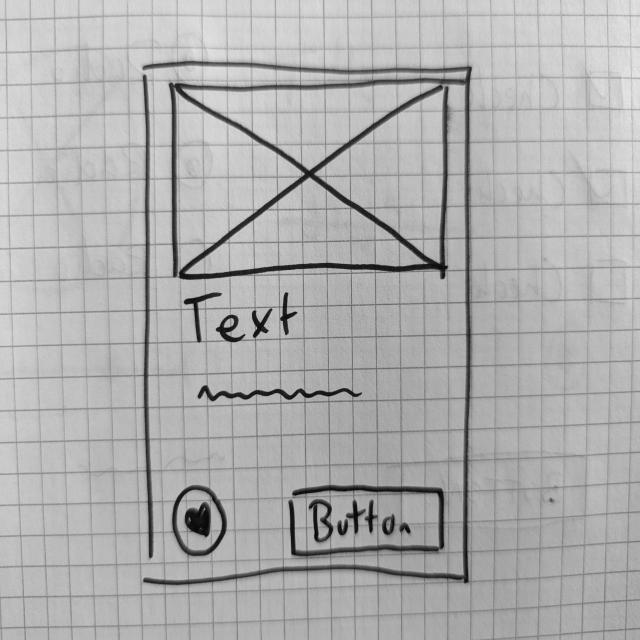button: (288, 483, 449, 559)
container: (138, 57, 476, 591)
icon-button: (172, 484, 227, 559)
image: (168, 78, 452, 281)
label: (183, 289, 302, 348)
text: (196, 379, 366, 408)
